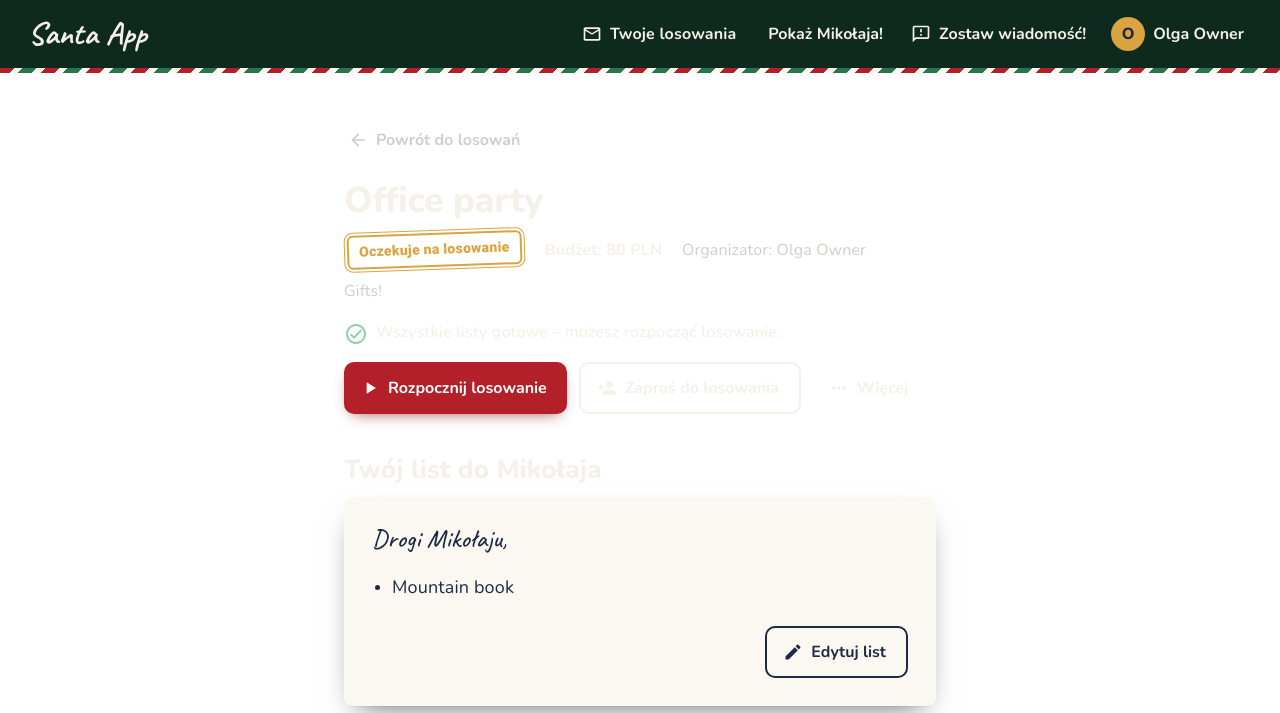
DrawPage › brings back an unsaved letter after a reload
The image size is (1280, 713).
Click the button "Edytuj list" at (837, 652), box [765,626,908,678]
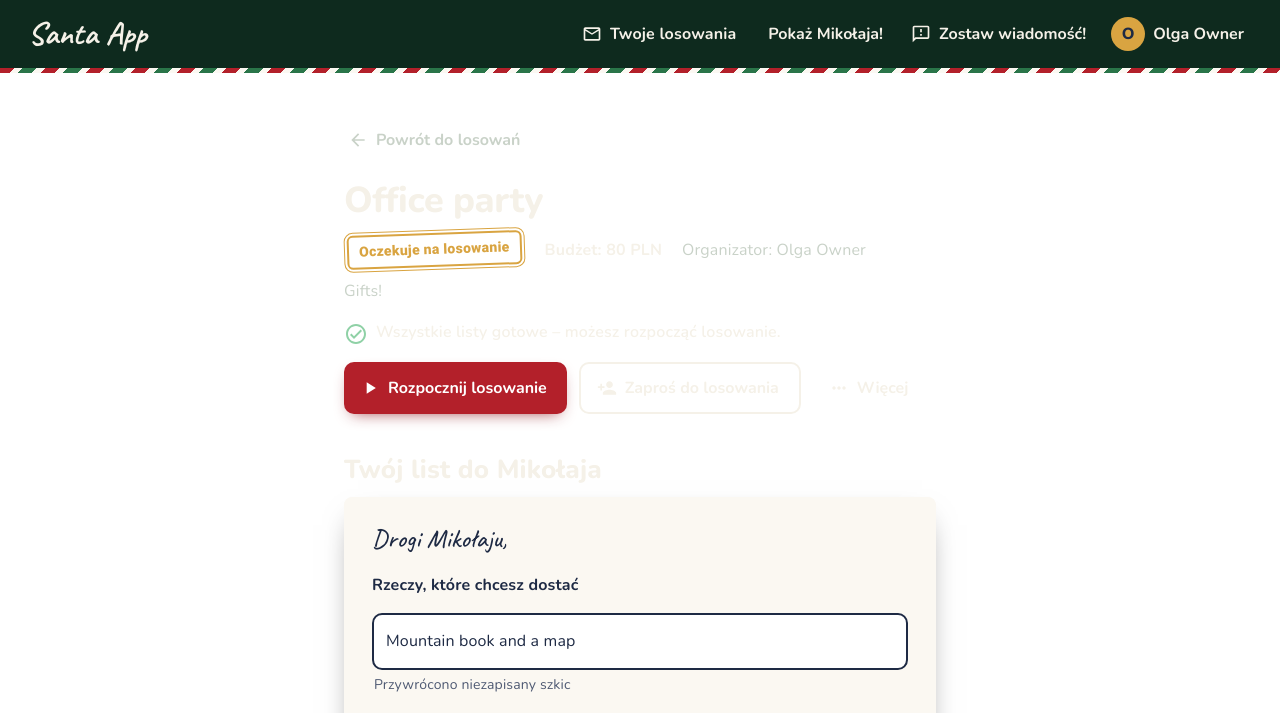
Expected: the field named "Rzeczy, które chcesz dostać 1" holds "Mountain book and a map", [372,614,908,670]
Expected: the text "Przywrócono niezapisany szkic" is shown, [374,675,570,694]
